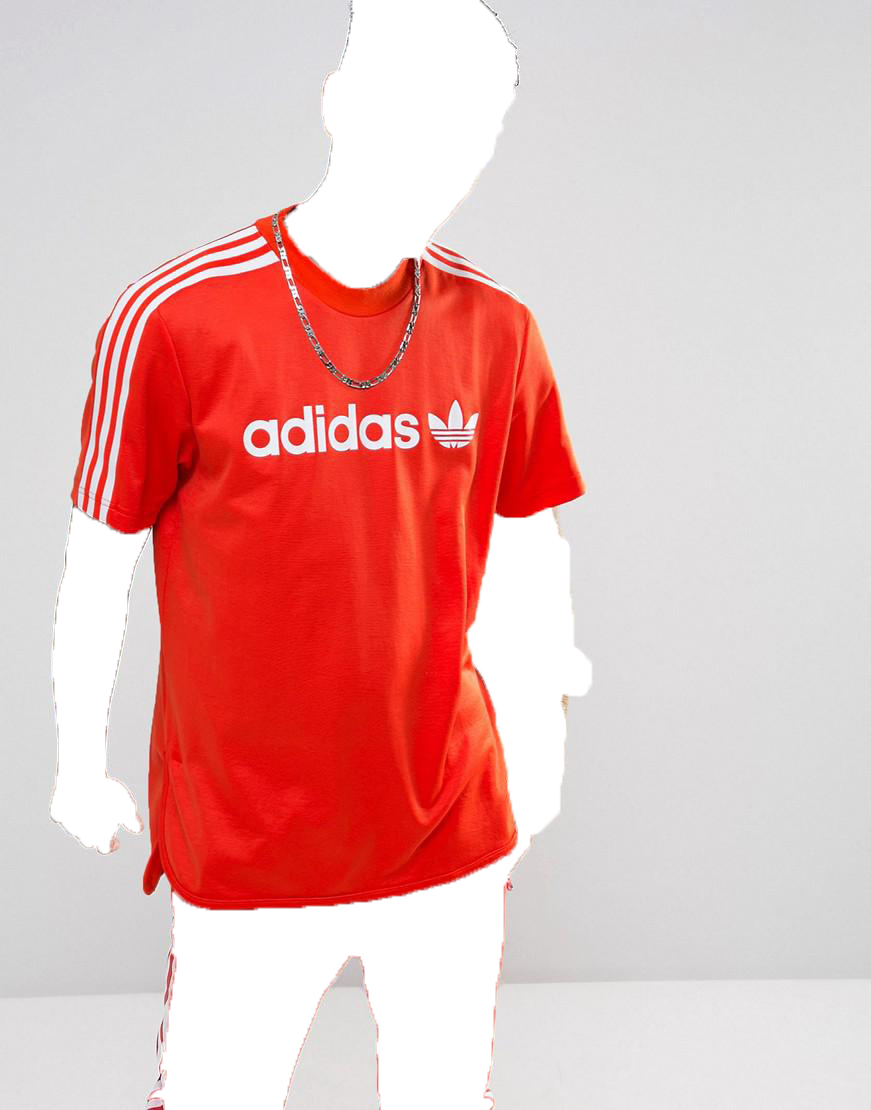teeshirt: (69, 208, 593, 907)
